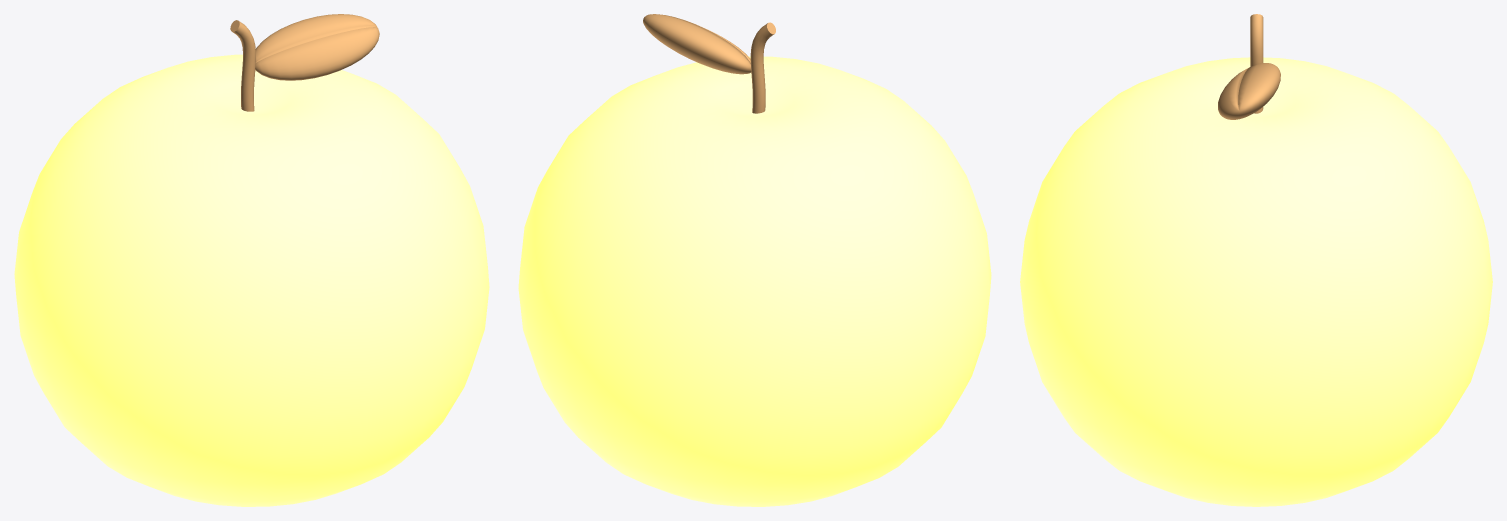
The model's file is Apple.glb.
3 renders of one model, left to right at view 1: azimuth 30°, elevation 25°; view 2: azimuth 150°, elevation 25°; view 3: azimuth 270°, elevation 25°, orthographic.
Visible parts, largest first — view 1: 球.016, 球.017, ベジエカーブ.008; view 2: 球.016, 球.017, ベジエカーブ.008; view 3: 球.016, 球.017, ベジエカーブ.008.
Boxes of the visible parts, x1=… form: 球.016: x1=14, y1=54, x2=489, y2=506; 球.017: x1=255, y1=14, x2=379, y2=80; ベジエカーブ.008: x1=230, y1=20, x2=255, y2=111; 球.016: x1=518, y1=56, x2=991, y2=506; 球.017: x1=643, y1=14, x2=751, y2=74; ベジエカーブ.008: x1=750, y1=22, x2=775, y2=113; 球.016: x1=1020, y1=57, x2=1492, y2=506; 球.017: x1=1218, y1=63, x2=1280, y2=119; ベジエカーブ.008: x1=1250, y1=14, x2=1263, y2=113.
Size of the model in its own units: 0.2758 by 0.2856 by 0.2758.
